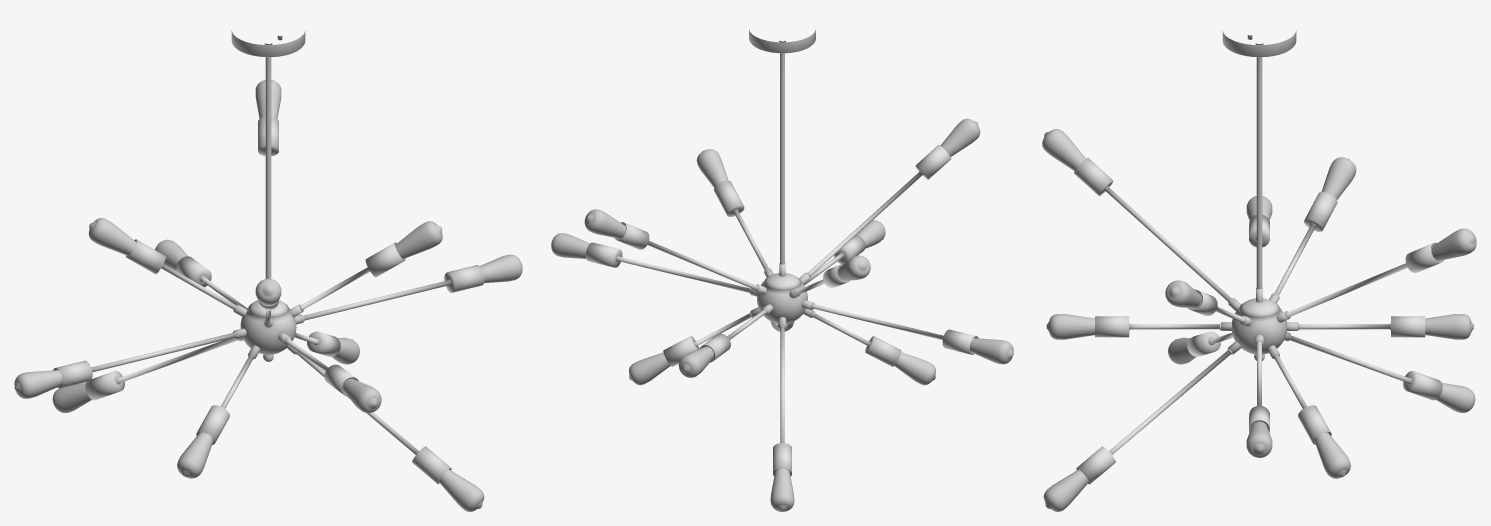
3 renders of one model, left to right at view 1: azimuth 30°, elevation 25°; view 2: azimuth 150°, elevation 25°; view 3: azimuth 270°, elevation 25°, orthographic. The views are drawn at different scales.
Visible parts, largest first — view 1: "$AKIGJKJCDBCAAAAAICBAAAAAAAAALKHMFHNP"; view 2: "$AKIGJKJCDBCAAAAAICBAAAAAAAAALKHMFHNP"; view 3: "$AKIGJKJCDBCAAAAAICBAAAAAAAAALKHMFHNP".
Part boxes in pixels (box(x1,y1,x2,y2)): "$AKIGJKJCDBCAAAAAICBAAAAAAAAALKHMFHNP": box(14, 30, 522, 511); "$AKIGJKJCDBCAAAAAICBAAAAAAAAALKHMFHNP": box(551, 29, 1013, 511); "$AKIGJKJCDBCAAAAAICBAAAAAAAAALKHMFHNP": box(1042, 30, 1476, 511).
Bounding box in the file's own units: 0.6842 × 0.5582 × 0.5091.
1 material, 1 textured.
